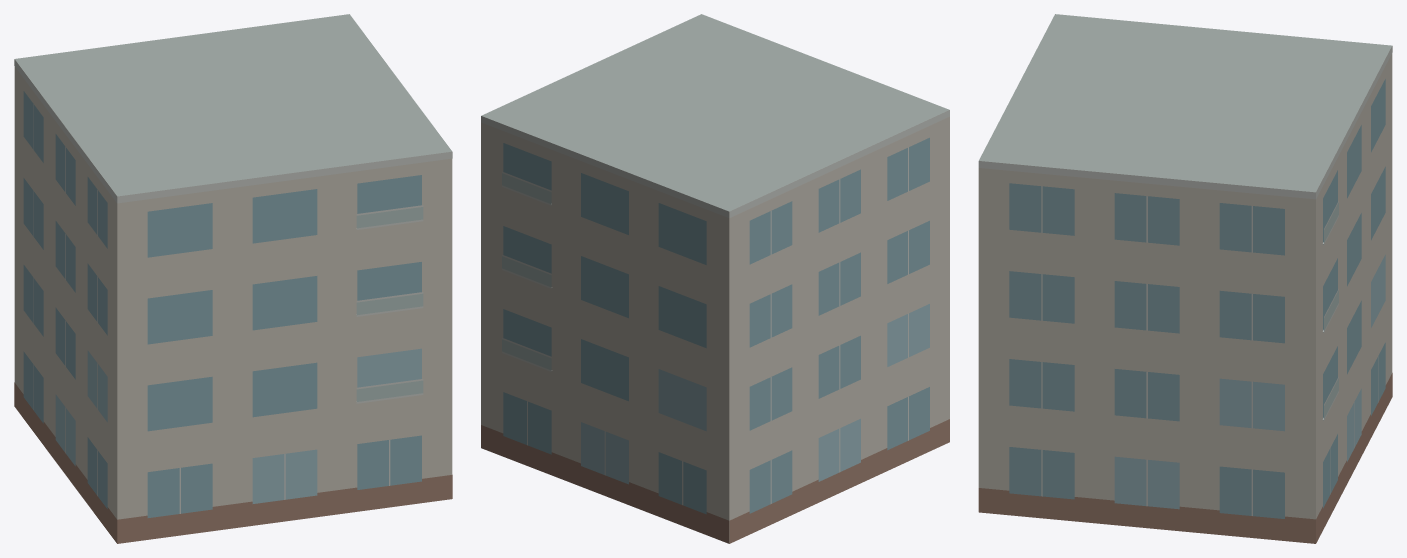
The model's file is residential-960cf6b0-d59e-452e-875a-89735612df05.glb.
The picture shows the model from 3 angles, left to right: view 1: azimuth 30°, elevation 25°; view 2: azimuth 150°, elevation 25°; view 3: azimuth 270°, elevation 25°; orthographic projection. The views are drawn at different scales.
Visible parts, largest first — view 1: residential-960cf6b0-d59e-452e-875a-89735612df05.tmp; view 2: residential-960cf6b0-d59e-452e-875a-89735612df05.tmp; view 3: residential-960cf6b0-d59e-452e-875a-89735612df05.tmp.
Part boxes in pixels (bbox=[...]): residential-960cf6b0-d59e-452e-875a-89735612df05.tmp: bbox=[14, 14, 452, 543]; residential-960cf6b0-d59e-452e-875a-89735612df05.tmp: bbox=[481, 14, 949, 543]; residential-960cf6b0-d59e-452e-875a-89735612df05.tmp: bbox=[978, 14, 1392, 543].
Size of the model in its own units: 13.29 by 12.2 by 13.02.
